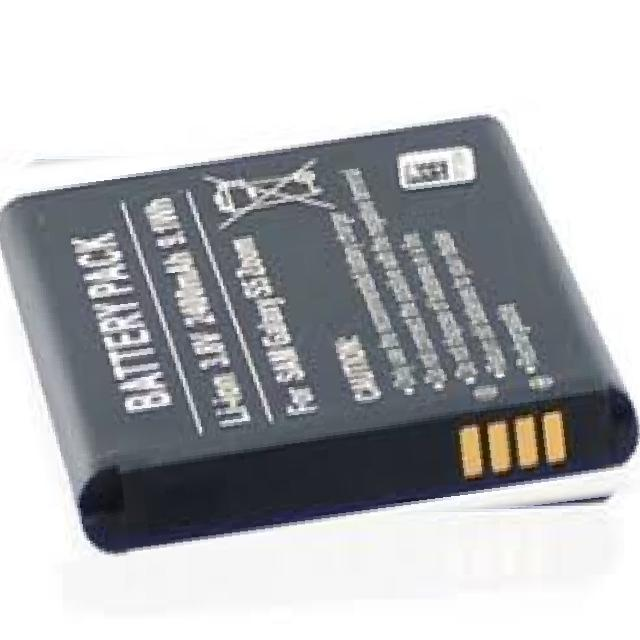Battery: (0, 100, 640, 558)
